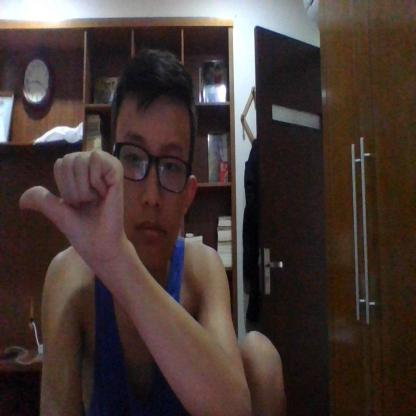right: (18, 146, 124, 256)
